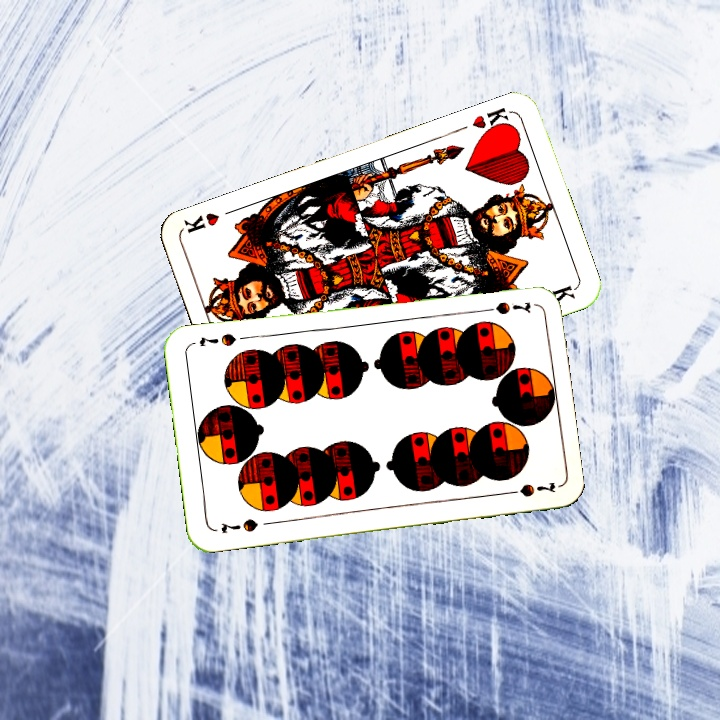HK: (468, 103, 515, 139)
S7: (476, 297, 533, 318), (217, 514, 260, 536)
